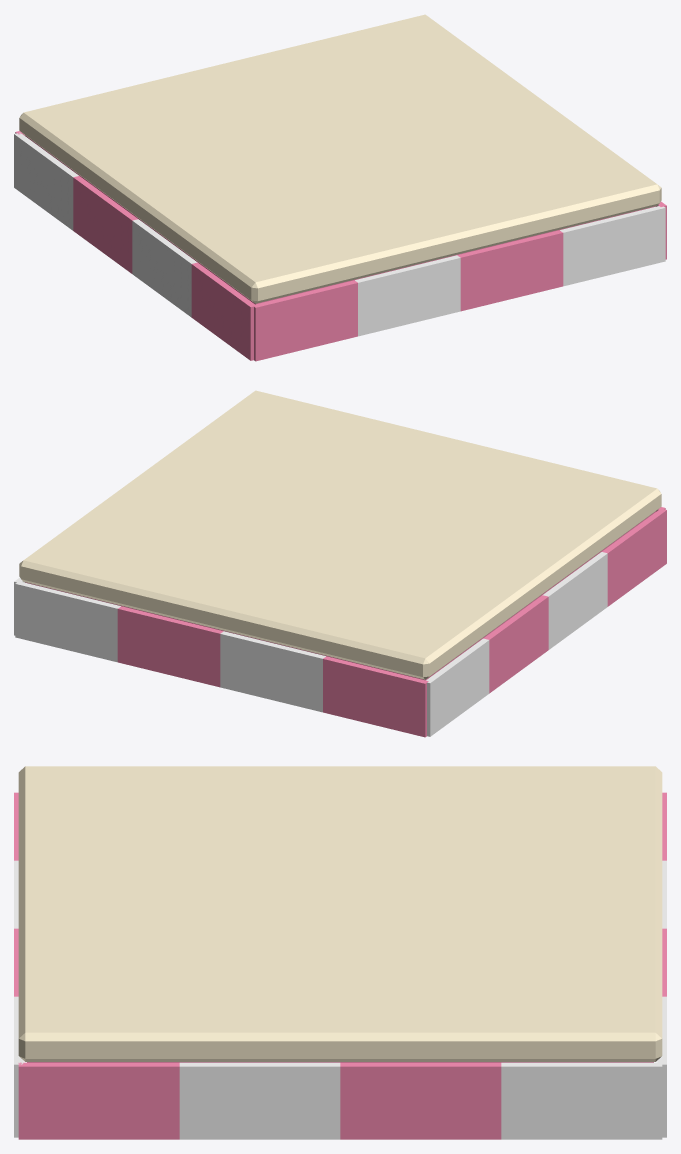
Rendered from floor_tile.glb.
3 views of the same model, one above another, from view 1: azimuth 30°, elevation 25°; view 2: azimuth 150°, elevation 25°; view 3: azimuth 270°, elevation 25° (orthographic). The views are drawn at different scales.
Parts seen in each view (by area): view 1: floor_tile; view 2: floor_tile; view 3: floor_tile.
Part boxes in pixels (<box>): floor_tile: <box>14,14,666,361</box>; floor_tile: <box>14,390,666,737</box>; floor_tile: <box>14,766,666,1139</box>.
Size of the model in its own units: 4.06 by 0.7 by 4.06.
